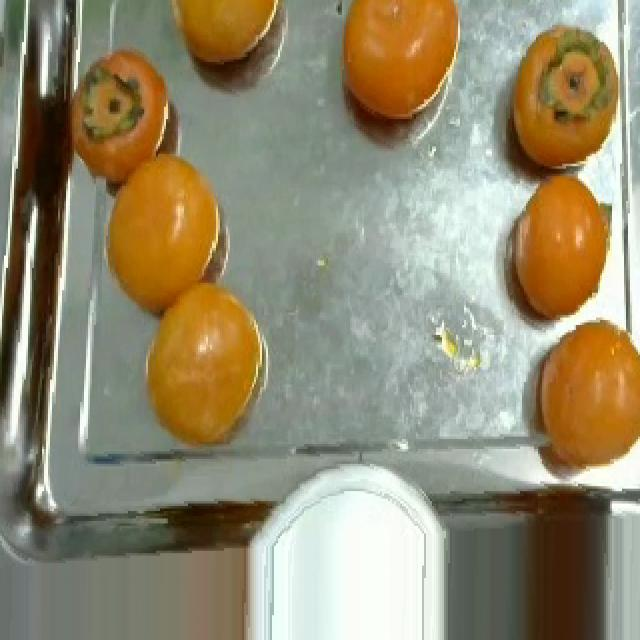Fruit: (318, 0, 484, 181), (132, 258, 276, 466), (518, 303, 640, 501), (490, 162, 616, 348), (490, 5, 618, 188), (154, 0, 298, 112)
